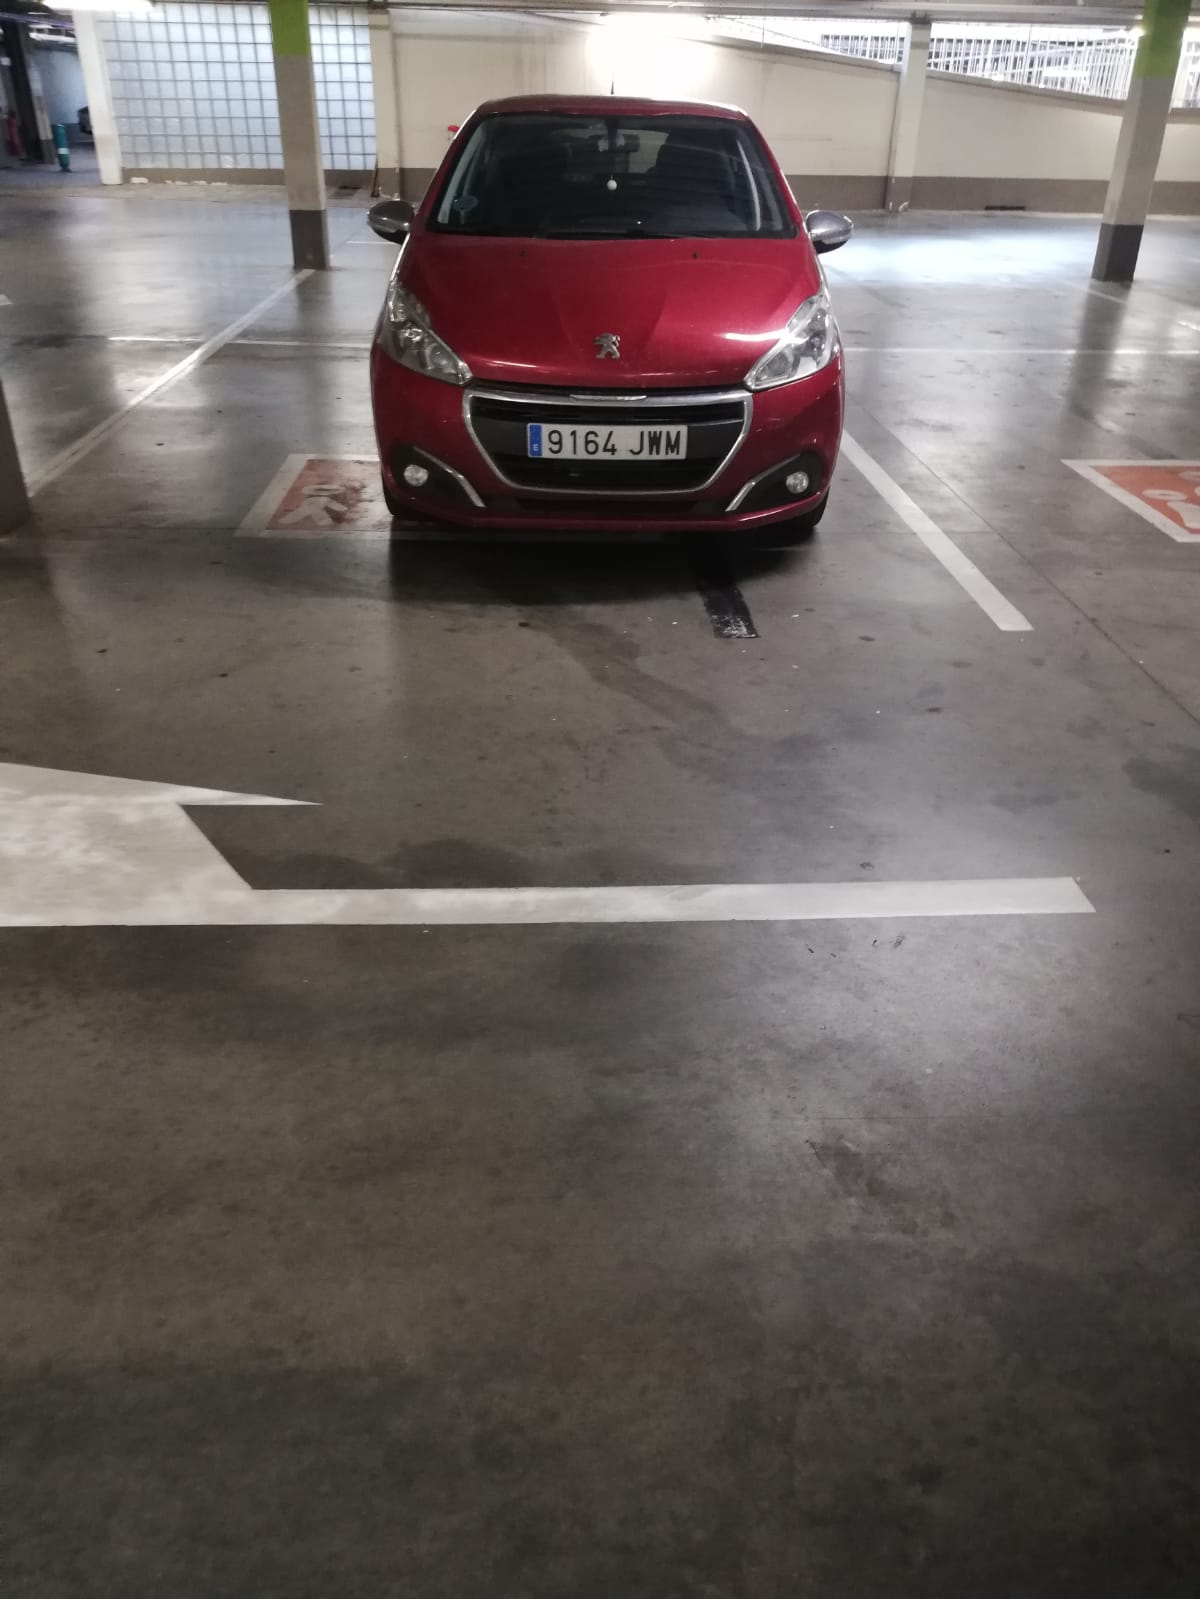Car: (365, 94, 837, 528)
Plate: (525, 423, 686, 456)
